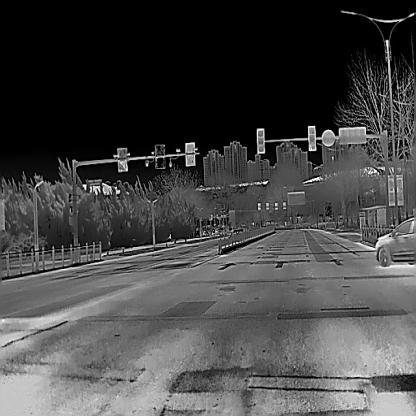car: (374, 216, 414, 267)
